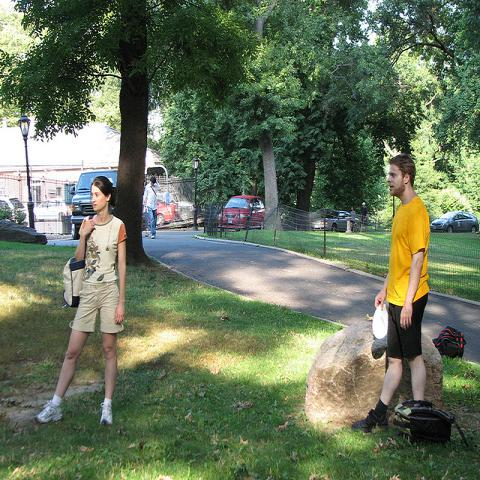car: (69, 170, 118, 239), (219, 194, 267, 232), (429, 211, 479, 236), (33, 197, 71, 222), (310, 209, 347, 232), (0, 196, 30, 224), (156, 202, 179, 227)
truck: (70, 170, 118, 239)
